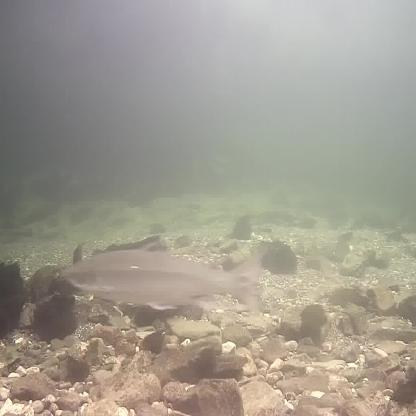salmon: (62, 234, 264, 318)
